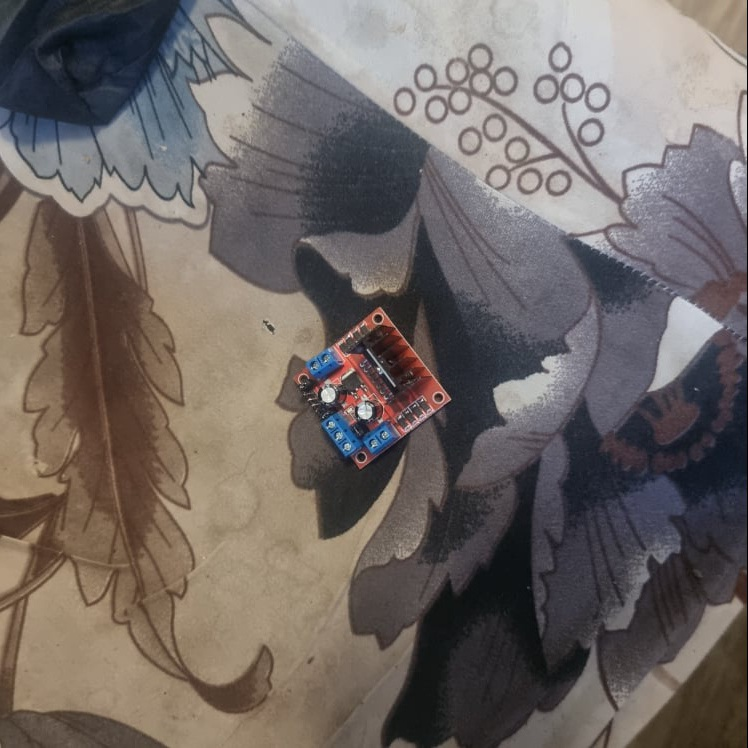MOTOR: (297, 305, 453, 469)
